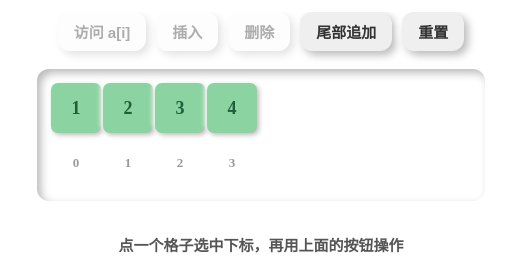
ArrayViz › TC-VIZ-ARRAYVIZ-02 点格选中：cell/slot is-selected + 启用三键
Click the button with class "cell" showing "3" at (180, 108), box [155, 83, 205, 133]
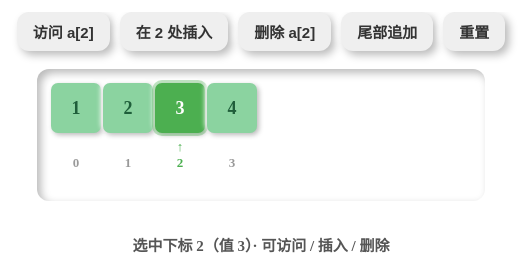
Now the button "访问 a[2]" is enabled, box [17, 12, 110, 51]
Now the button "在 2 处插入" is enabled, box [120, 12, 228, 51]
